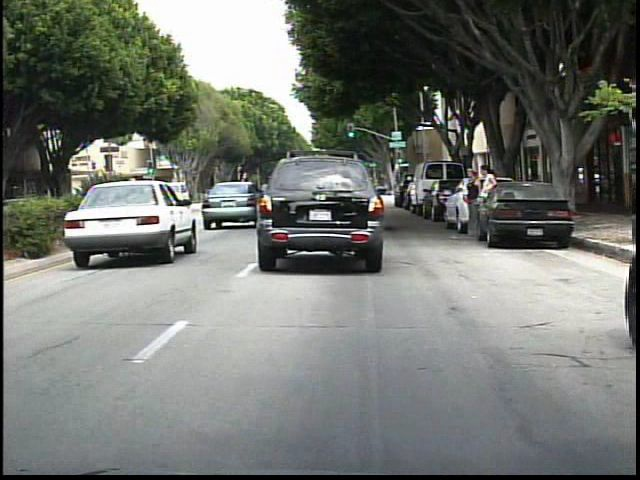person: (479, 162, 501, 237), (463, 168, 485, 240)
